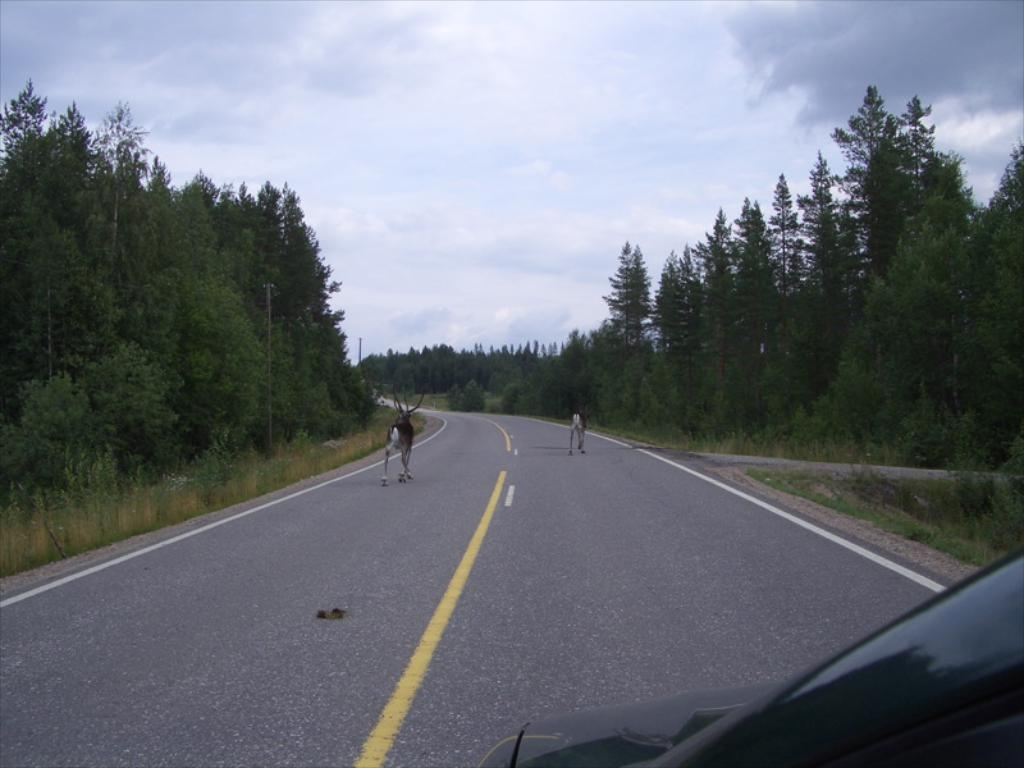Tree: (355, 90, 1024, 570), (1, 100, 379, 474)
